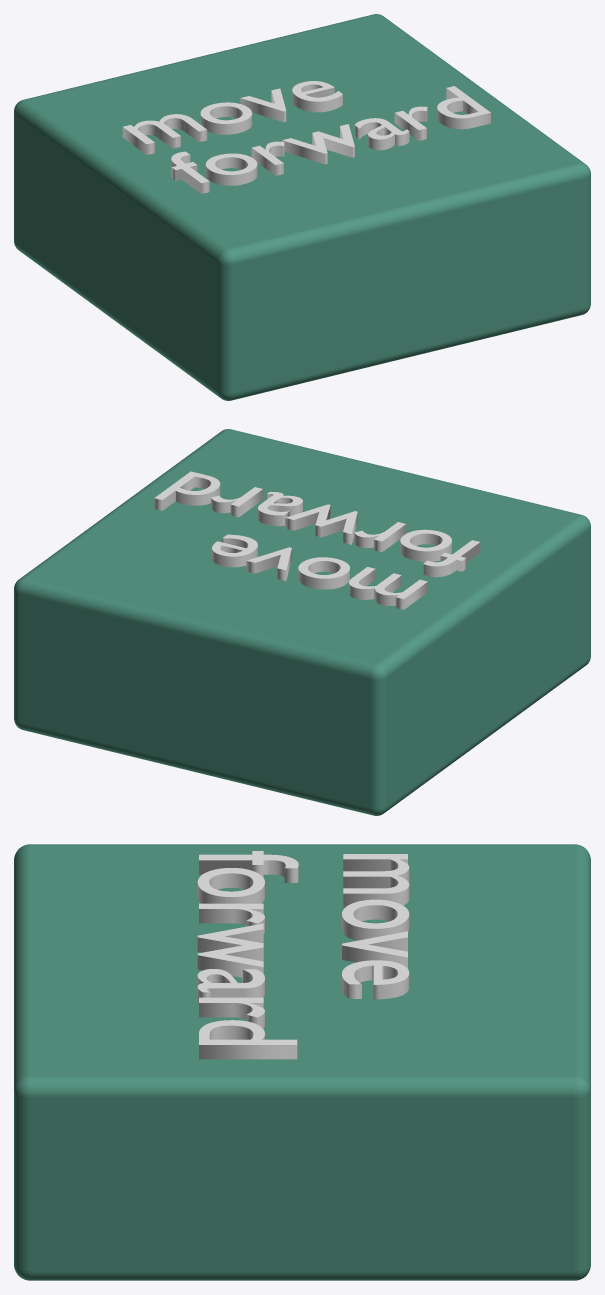
File: 立方体前进.glb
3 views of the same model, one above another, from view 1: azimuth 30°, elevation 25°; view 2: azimuth 150°, elevation 25°; view 3: azimuth 270°, elevation 25° (orthographic). The views are drawn at different scales.
Parts seen in each view (by area): view 1: Cube, move; view 2: Cube, move; view 3: Cube, move.
Part boxes in pixels (x1,y1,x2,y2): Cube: (14,14,590,400); move: (122,81,490,193); Cube: (14,429,590,815); move: (154,471,480,609); Cube: (14,844,590,1280); move: (197,851,409,1059).
Bounding box in the file's own units: 2 × 0.8329 × 2.
